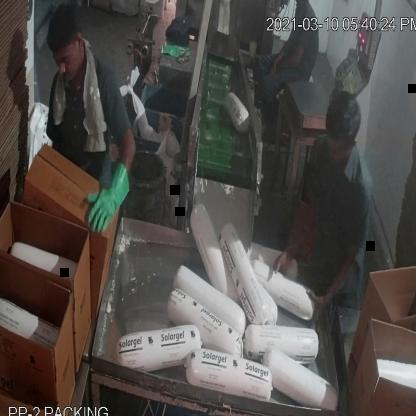glove: (86, 150, 136, 242)
no_glove: (306, 229, 368, 313), (270, 180, 314, 283), (271, 42, 309, 76)
